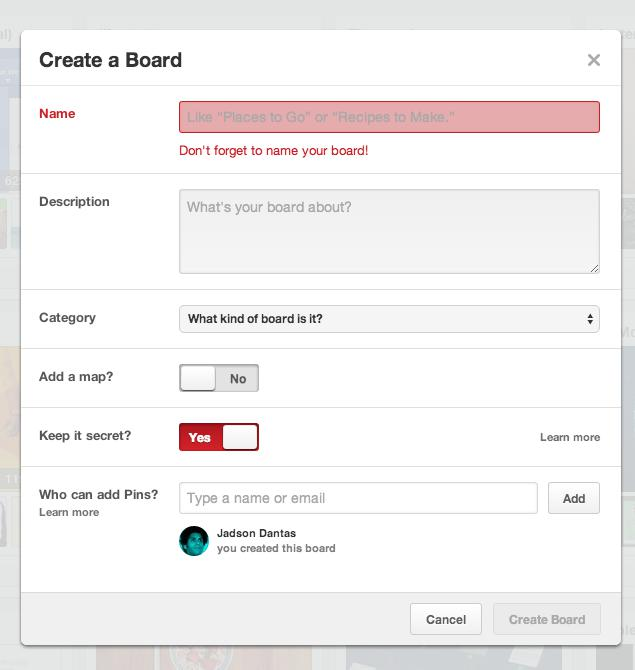error_field: (179, 99, 602, 136)
error_message: (176, 144, 371, 158), (39, 106, 77, 121), (187, 430, 211, 445)
